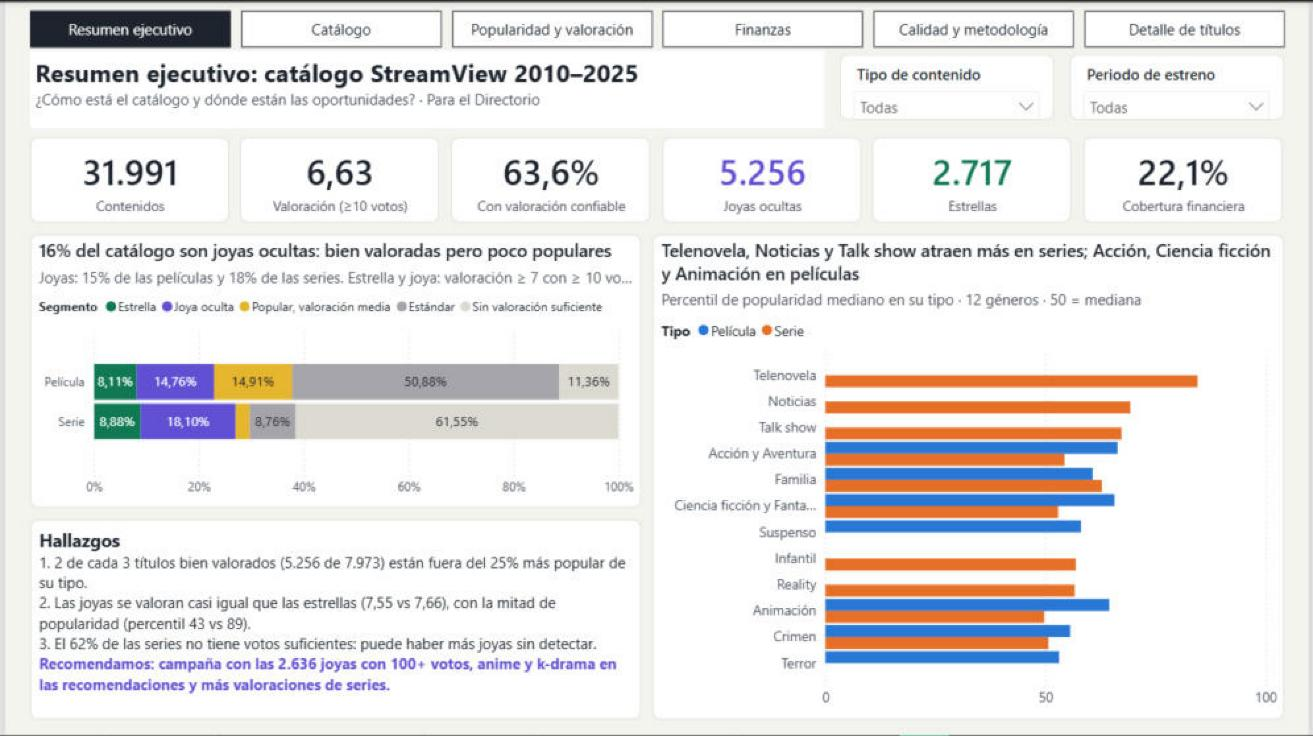

What the dashboard file says about the page in this screenshot:
{"tool":"powerbi","page":{"name":"Resumen ejecutivo","canvas":[1280,720],"ordinal":0},"visuals":[{"type":"textbox","box":[24,48,780,76],"z":1000},{"type":"pageNavigator","box":[24,8,1232,36],"z":2000},{"type":"slicer","fields":{"Values":["Catalogo.tipo"]},"box":[820,52,210,64],"z":3000},{"type":"slicer","fields":{"Values":["Catalogo.periodo"]},"box":[1046,52,210,64],"z":4000},{"type":"card","fields":{"Values":["Catalogo.Contenidos"]},"box":[24,132,195,84],"z":5000},{"type":"card","fields":{"Values":["Catalogo.Valoración promedio"]},"box":[231,132,195,84],"z":6000},{"type":"card","fields":{"Values":["Catalogo.% valoración confiable"]},"box":[438,132,195,84],"z":7000},{"type":"card","fields":{"Values":["Catalogo.Joyas ocultas"]},"box":[645,132,195,84],"z":8000},{"type":"card","fields":{"Values":["Catalogo.Estrellas"]},"box":[852,132,195,84],"z":9000},{"type":"card","fields":{"Values":["Catalogo.Cobertura financiera"]},"box":[1059,132,195,84],"z":10000},{"type":"hundredPercentStackedBarChart","title":"16% del catálogo son joyas ocultas: bien valoradas pero poco populares","fields":{"Category":["Catalogo.tipo"],"Series":["Catalogo.segmento"],"Y":["Catalogo.Contenidos"]},"box":[24,228,600,268],"z":11000},{"type":"clusteredBarChart","title":"Telenovela, Noticias y Talk show atraen más en series; Acción, Ciencia ficción y Animación en películas","fields":{"Category":["Generos.genero"],"Series":["Catalogo.tipo"],"Y":["Generos.Popularidad mediana del género"]},"box":[636,228,620,476],"z":12000},{"type":"textbox","box":[24,508,600,196],"z":13000}]}

Visuals, with their boxes in screenshot pixels (x1, y1, x2, y2), scaled from the page's 1280x720 canvas onto the 1313x736 screenshot:
textbox: Rect(25, 49, 825, 127)
pageNavigator: Rect(25, 8, 1288, 45)
slicer - Catalogo.tipo: Rect(841, 53, 1057, 119)
slicer - Catalogo.periodo: Rect(1073, 53, 1288, 119)
card - Catalogo.Contenidos: Rect(25, 135, 225, 221)
card - Catalogo.Valoración promedio: Rect(237, 135, 437, 221)
card - Catalogo.% valoración confiable: Rect(449, 135, 649, 221)
card - Catalogo.Joyas ocultas: Rect(662, 135, 862, 221)
card - Catalogo.Estrellas: Rect(874, 135, 1074, 221)
card - Catalogo.Cobertura financiera: Rect(1086, 135, 1286, 221)
"16% del catálogo son joyas ocultas: bien valoradas pero poco populares" hundredPercentStackedBarChart: Rect(25, 233, 640, 507)
"Telenovela, Noticias y Talk show atraen más en series; Acción, Ciencia ficción y Animación en películas" clusteredBarChart: Rect(652, 233, 1288, 720)
textbox: Rect(25, 519, 640, 720)
